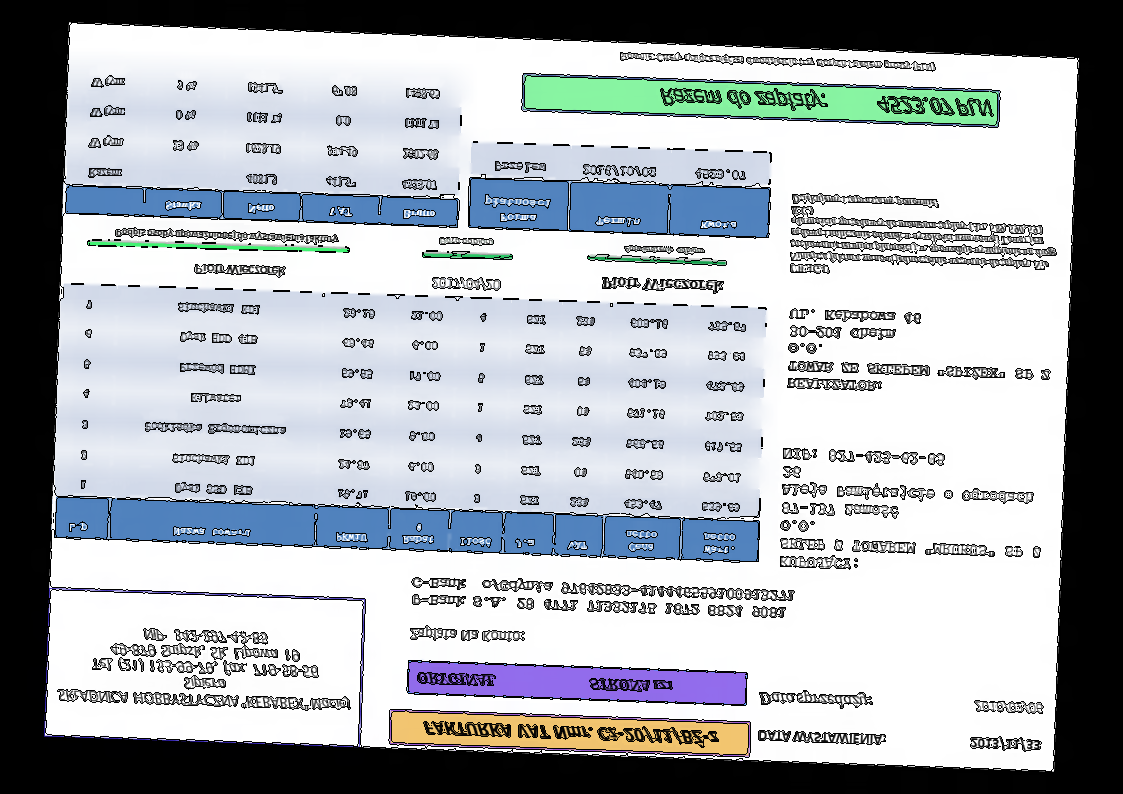Table: (52, 281, 769, 565), (63, 61, 464, 230), (466, 141, 773, 241)
TextBox: (776, 442, 1049, 580), (54, 621, 357, 716), (785, 189, 1063, 287), (785, 304, 1056, 401), (409, 572, 799, 622), (656, 85, 996, 121), (420, 715, 724, 751), (615, 49, 938, 75), (414, 669, 675, 698), (113, 224, 340, 248), (756, 687, 878, 714), (756, 727, 888, 749), (407, 624, 529, 647), (599, 275, 725, 296), (190, 261, 290, 280), (429, 273, 501, 294), (967, 734, 1045, 753), (970, 698, 1047, 717), (622, 242, 705, 258), (436, 234, 495, 251)
